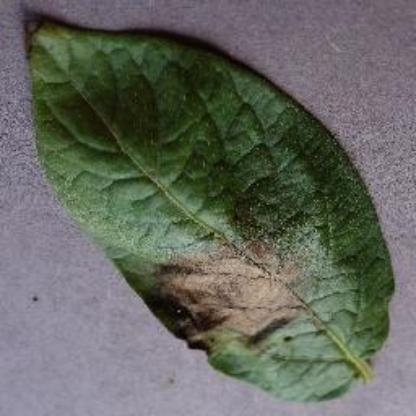Late-Blight: (18, 9, 404, 407)
